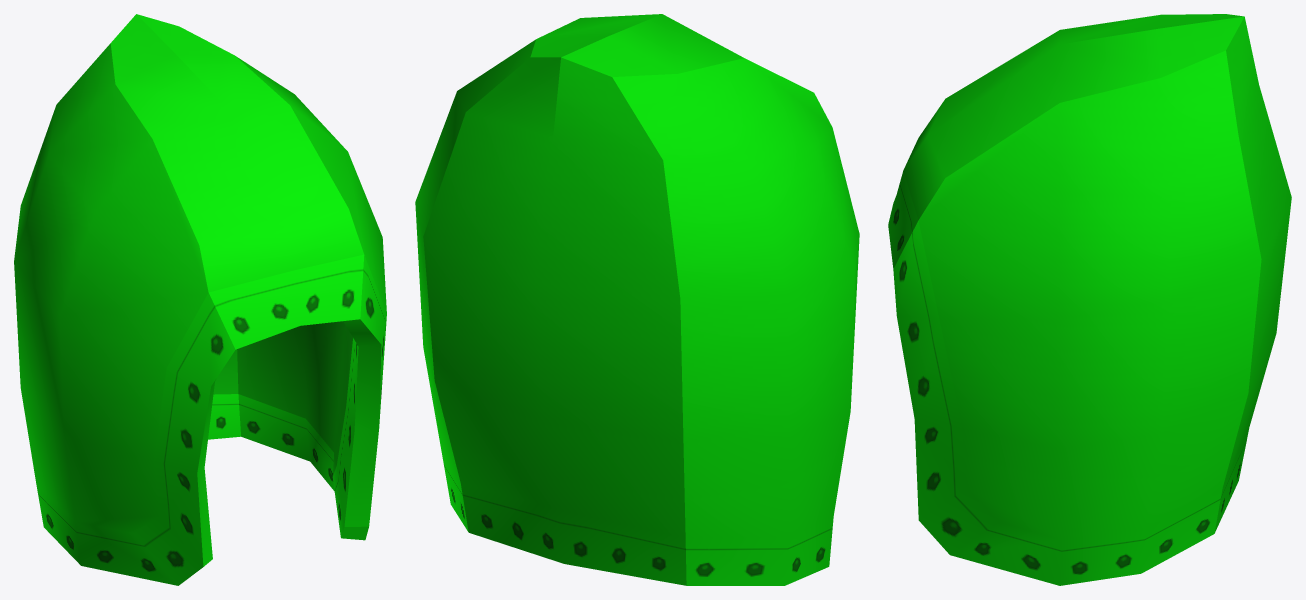
The model's file is Bascinet_F.fbx.
3 views of the same model, side by side, from view 1: azimuth 30°, elevation 25°; view 2: azimuth 150°, elevation 25°; view 3: azimuth 270°, elevation 25° (orthographic). The views are drawn at different scales.
Visible parts, largest first — view 1: Bascinet_F; view 2: Bascinet_F; view 3: Bascinet_F.
Part boxes in pixels (x1,y1,x2,y2): Bascinet_F: (14, 14, 386, 585); Bascinet_F: (415, 14, 859, 585); Bascinet_F: (888, 14, 1291, 585).
Bounding box in the file's own units: 26.28 × 35.45 × 26.19.
